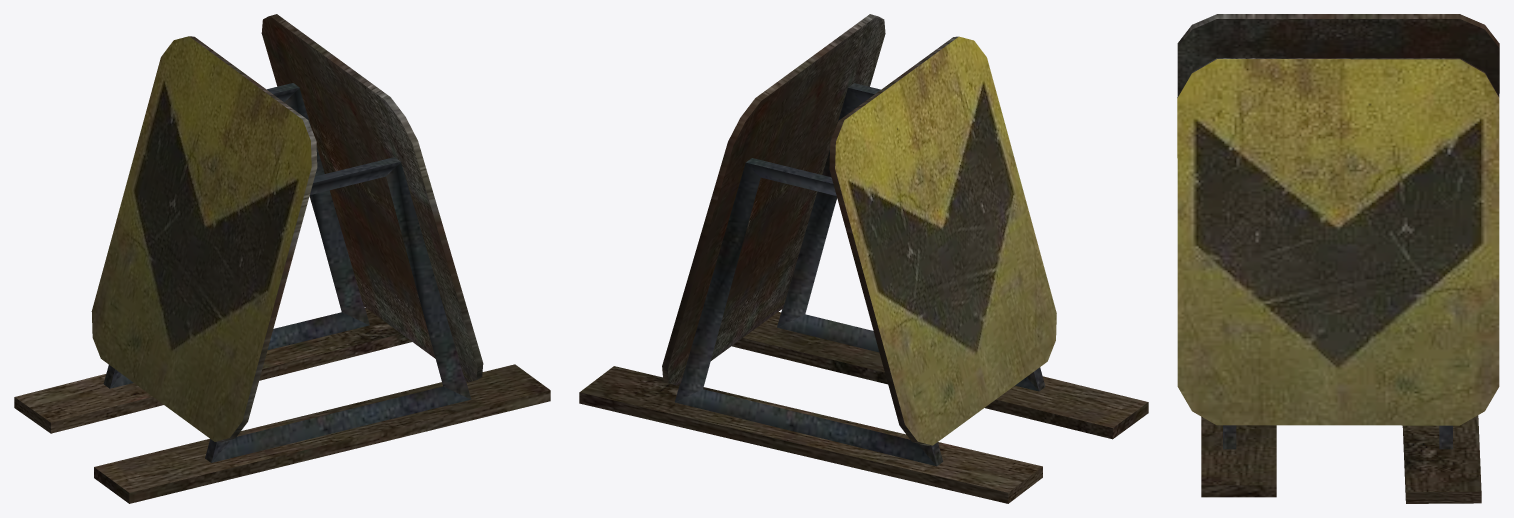
Rendered from tracksign02.glb.
3 renders of one model, left to right at view 1: azimuth 30°, elevation 25°; view 2: azimuth 150°, elevation 25°; view 3: azimuth 270°, elevation 25°, orthographic. The views are drawn at different scales.
Parts seen in each view (by area): view 1: 0_TrackProps01a; view 2: 0_TrackProps01a; view 3: 0_TrackProps01a.
Boxes of the visible parts, bbox=[...] form: 0_TrackProps01a: bbox=[14, 14, 550, 503]; 0_TrackProps01a: bbox=[579, 14, 1148, 503]; 0_TrackProps01a: bbox=[1177, 14, 1499, 503].
Size of the model in its own units: 0.9422 by 0.6964 by 0.5667.
1 material, 1 textured.
